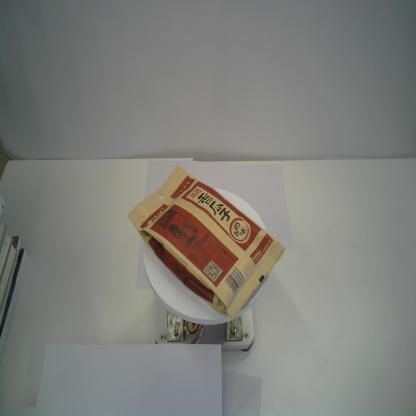Dried Food: (126, 164, 285, 324)
